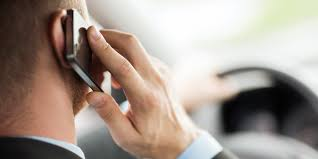phone: (65, 9, 111, 100)
